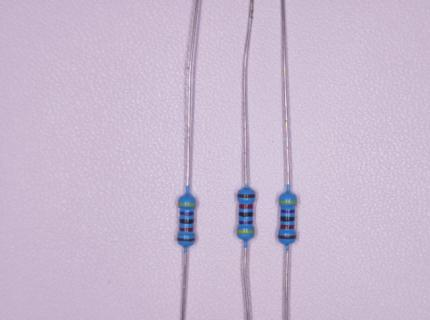Black band: (179, 218, 194, 224), (281, 216, 295, 222), (239, 212, 253, 217)
Brown band: (177, 237, 195, 242), (237, 193, 255, 198), (278, 234, 296, 239)
Red band: (280, 224, 295, 229), (179, 227, 194, 232), (239, 204, 253, 208)
Violet band: (239, 219, 253, 225), (180, 211, 194, 216), (281, 209, 295, 213)
Yellow band: (278, 199, 297, 204), (236, 229, 254, 234), (178, 202, 196, 206)
